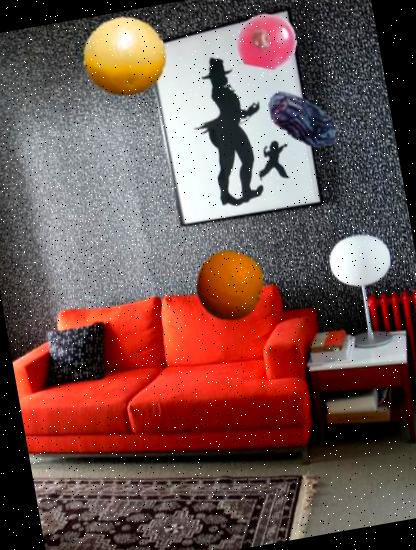Dates: (256, 73, 349, 166)
Grapefruit: (75, 8, 172, 105)
Orange: (188, 245, 270, 327)
Redcurrant: (232, 6, 300, 74)
